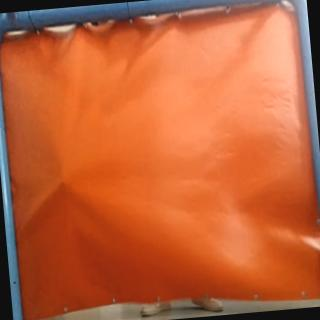Hit-hRxx: (56, 176, 71, 190)
